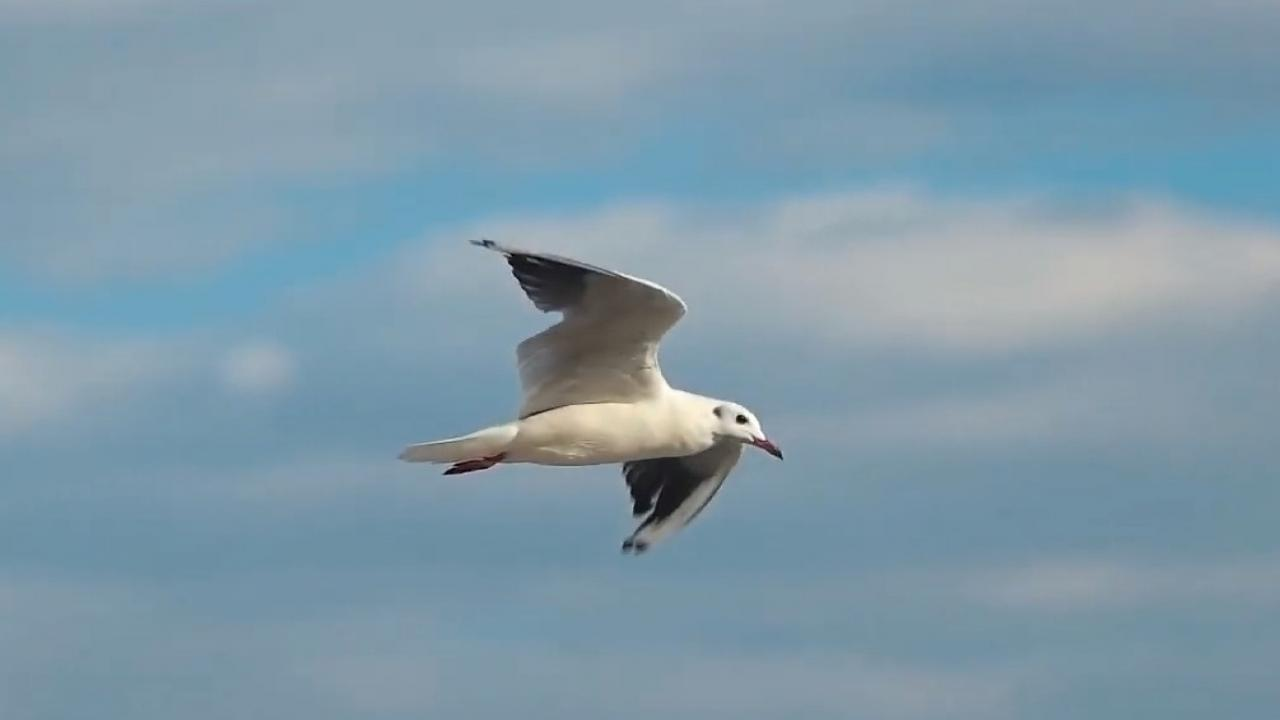Bird: (387, 230, 794, 567)
